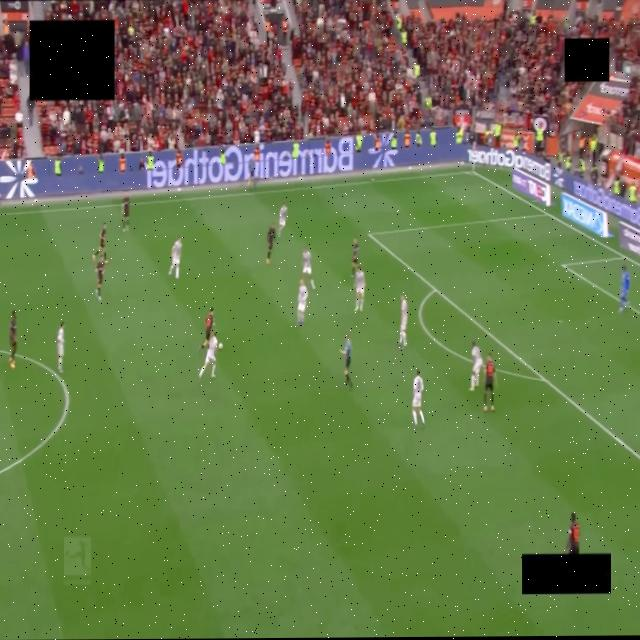ball: (218, 342, 222, 349)
player: (199, 333, 217, 378), (412, 370, 425, 428), (483, 353, 495, 411), (199, 307, 215, 350), (469, 341, 481, 391), (302, 248, 316, 290), (92, 223, 107, 262), (565, 513, 579, 554), (168, 238, 181, 279), (618, 266, 629, 312), (354, 266, 365, 310), (297, 279, 307, 325), (95, 255, 105, 300), (399, 295, 407, 348), (9, 311, 16, 368), (266, 223, 275, 264), (57, 323, 63, 374), (277, 204, 286, 237), (351, 238, 358, 276), (122, 196, 129, 231)
referee: (339, 333, 351, 388)
